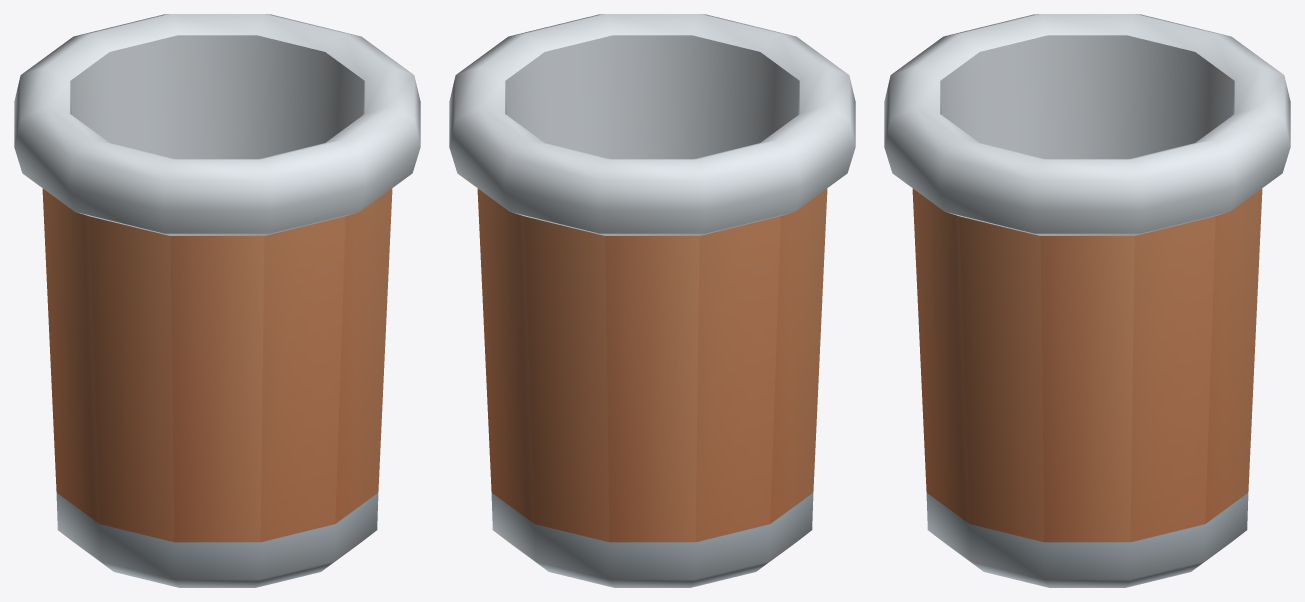
File: coffee-cup-takeaway.glb
The picture shows the model from 3 angles, left to right: view 1: azimuth 30°, elevation 25°; view 2: azimuth 150°, elevation 25°; view 3: azimuth 270°, elevation 25°; orthographic projection.
Parts seen in each view (by area): view 1: coffee_cup_takeaway; view 2: coffee_cup_takeaway; view 3: coffee_cup_takeaway.
Boxes of the visible parts, left/top/right/bottom form: coffee_cup_takeaway: left=14, top=14, right=420, bottom=587; coffee_cup_takeaway: left=449, top=14, right=855, bottom=587; coffee_cup_takeaway: left=884, top=14, right=1290, bottom=587.
Size of the model in its own units: 0.3419 by 0.41 by 0.3419.
1 material, 1 textured.
